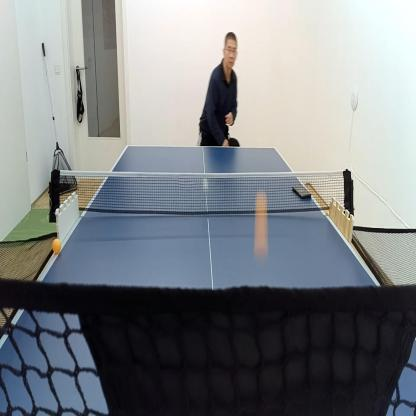Ball: (252, 187, 270, 262), (51, 237, 62, 256), (200, 175, 210, 194)
